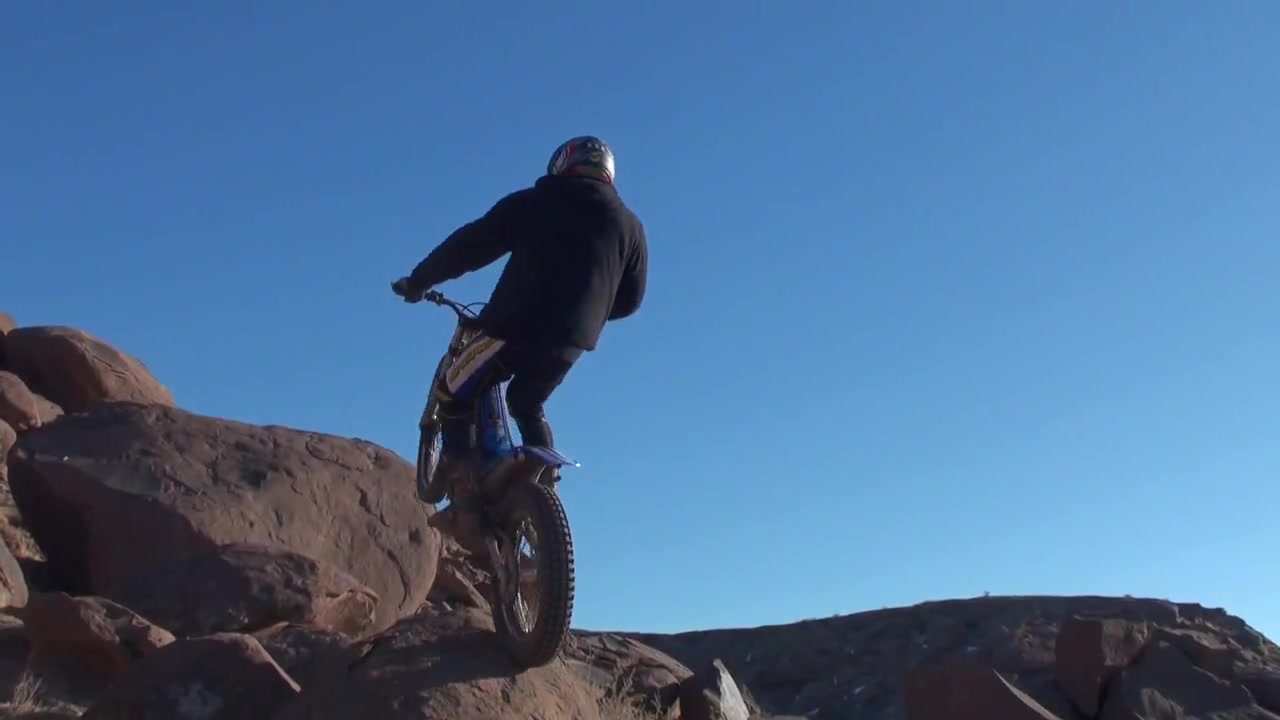motorbike: (388, 276, 580, 672)
